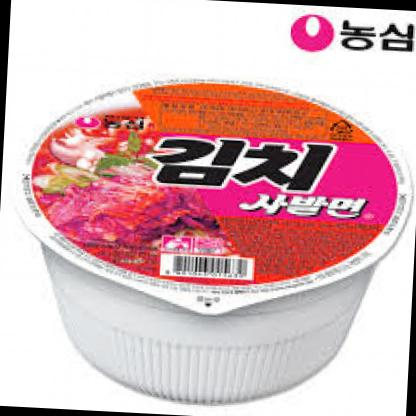Ramen: (6, 64, 410, 412)
